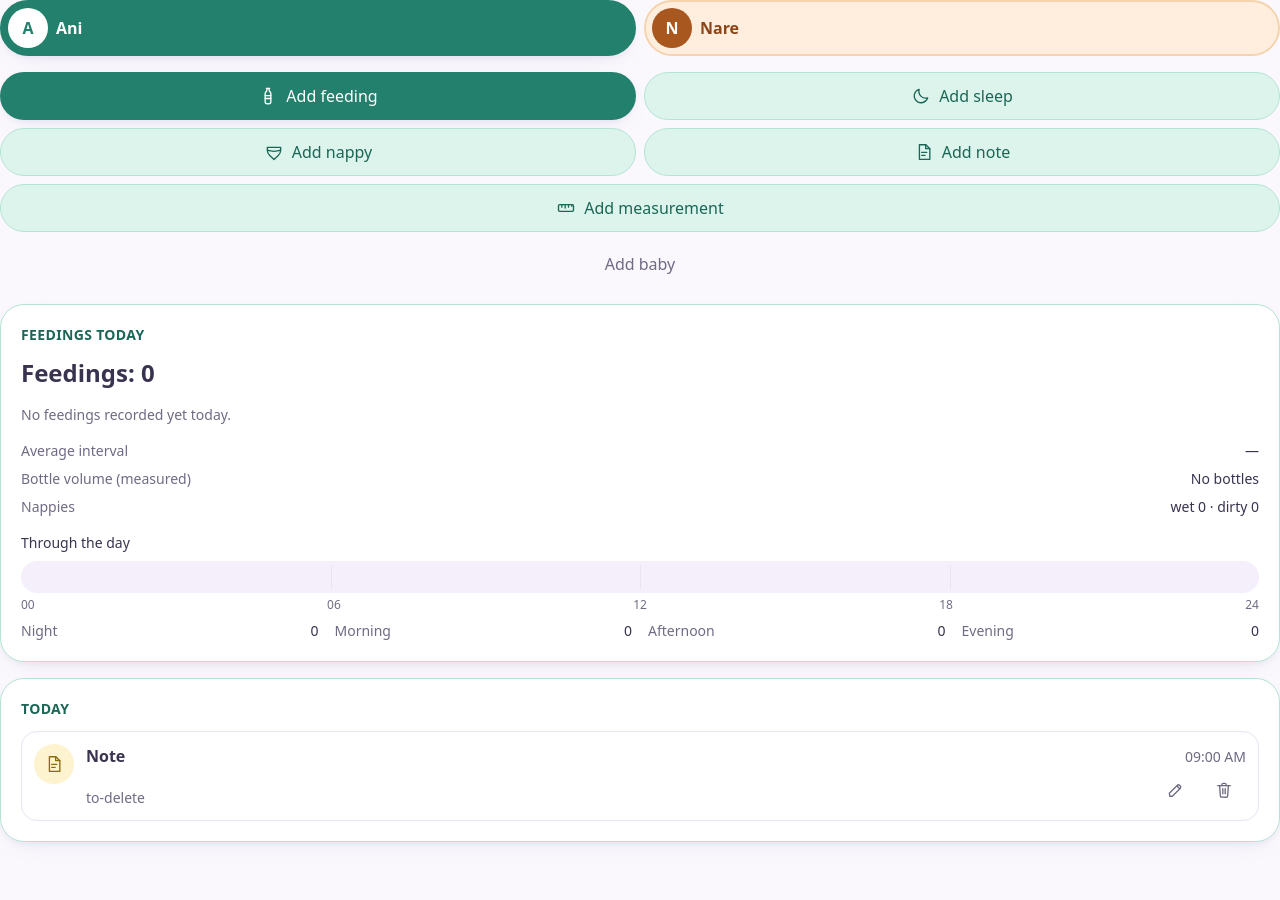
Test: today’s day scope › keeps the day scope when the list is refreshed after a delete
Click the button named "Delete Note": x=1224, y=790 [1202,768,1246,812]
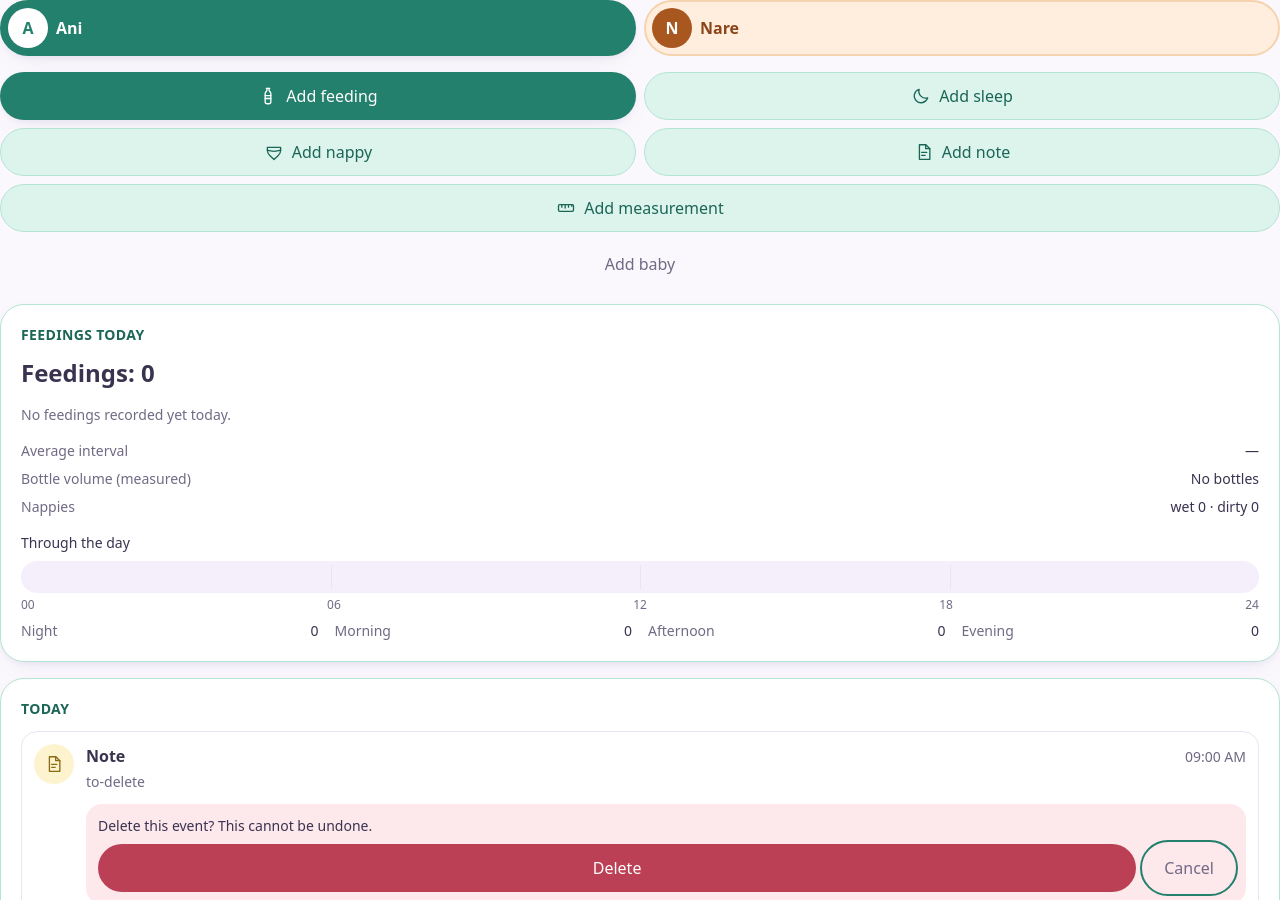
Click the button "Delete": x=617, y=868 [98,844,1136,892]
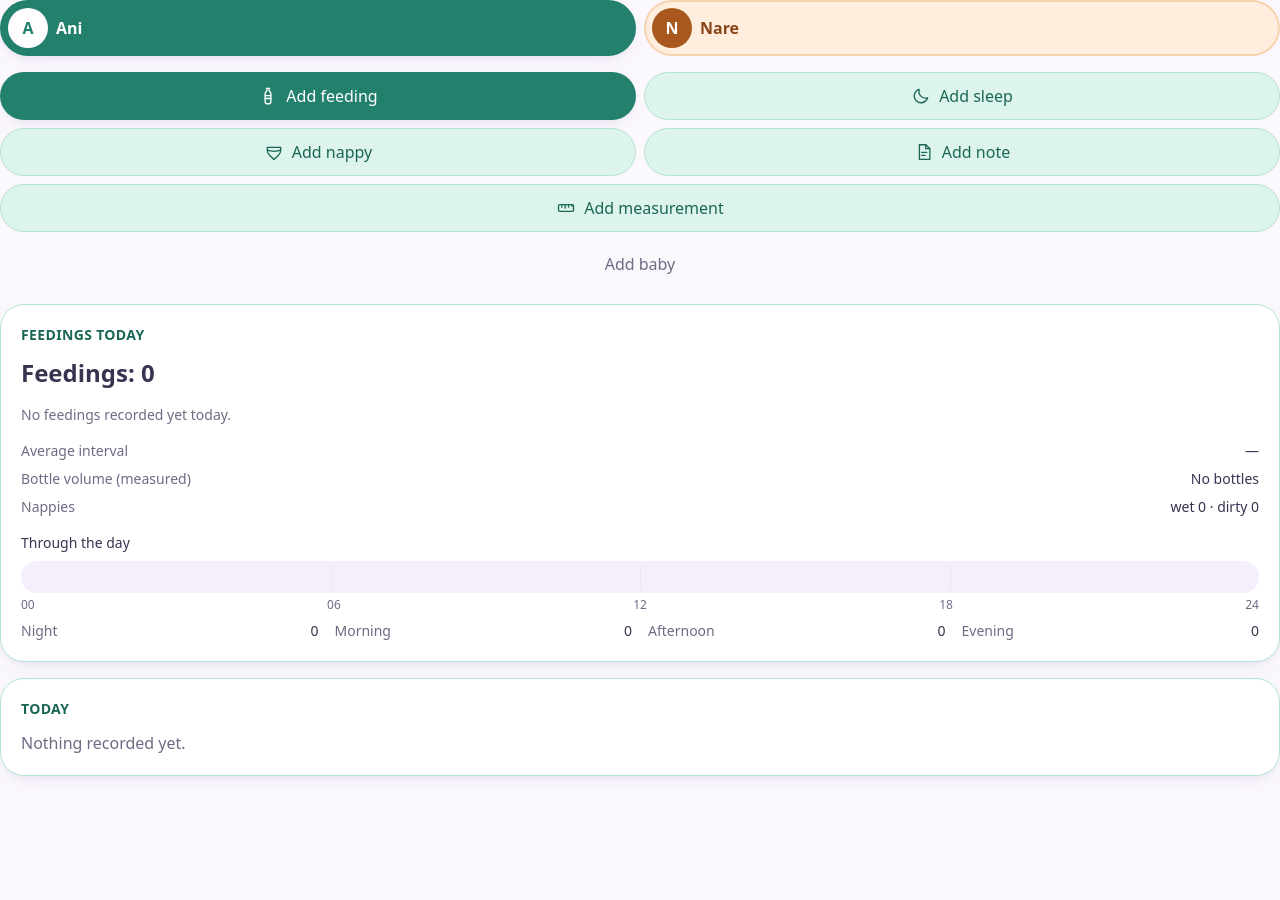
Now the text "to-delete" is gone
